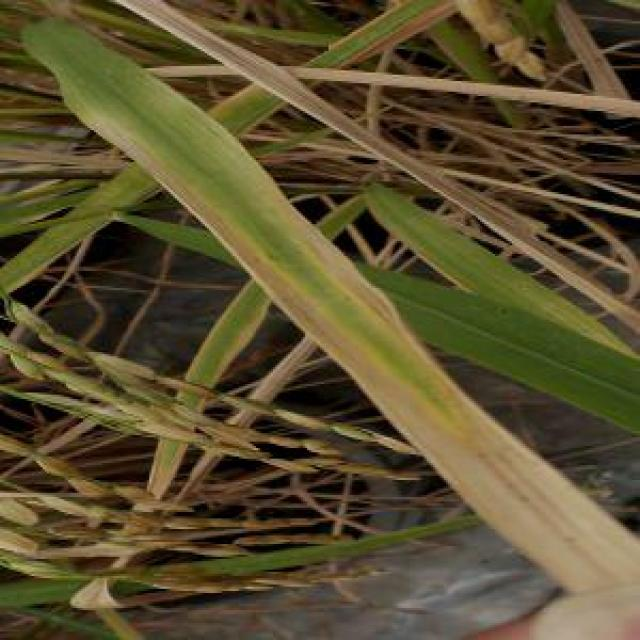Bacterial_Leaf_Blight: (192, 136, 388, 378)
